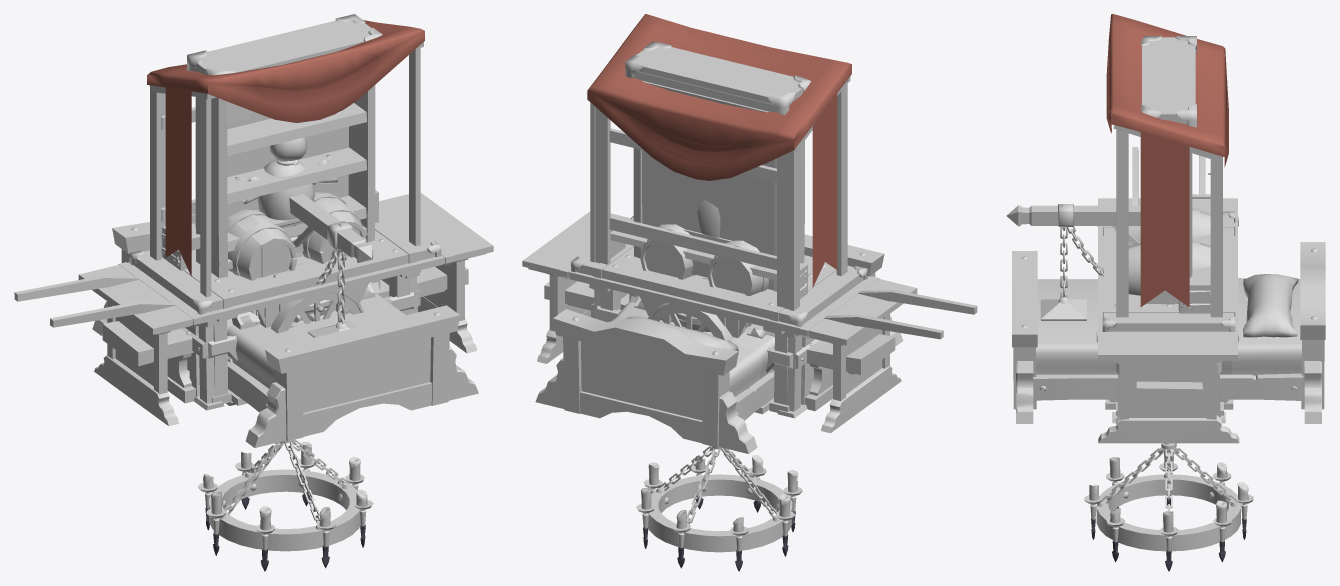
File: props.glb
The picture shows the model from 3 angles, left to right: view 1: azimuth 30°, elevation 25°; view 2: azimuth 150°, elevation 25°; view 3: azimuth 270°, elevation 25°; orthographic projection. The views are drawn at different scales.
Visible parts, largest first — view 1: Bed_Twin1, Bookcase_2, Stall_Cart_Empty, Table_Large, Stall_Empty, Chandelier, Workbench, Barrel_Holder, Bench, Lantern_Wall, Dummy; view 2: Stall_Empty, Bed_Twin1, Stall_Cart_Empty, Bookcase_2, Table_Large, Chandelier, Workbench, Barrel_Holder, Bench, Dummy; view 3: Bed_Twin1, Stall_Empty, Table_Large, Stall_Cart_Empty, Chandelier, Workbench, Bookcase_2, Lantern_Wall, Barrel_Holder, Bench.
Boxes of the visible parts, x1,y1,x2,y2 form: Bed_Twin1: [92, 214, 478, 447]; Bookcase_2: [187, 14, 382, 278]; Stall_Cart_Empty: [14, 22, 424, 396]; Table_Large: [78, 193, 493, 425]; Stall_Empty: [147, 20, 423, 410]; Chandelier: [198, 439, 373, 571]; Workbench: [129, 203, 441, 403]; Barrel_Holder: [227, 192, 380, 289]; Bench: [102, 266, 468, 403]; Lantern_Wall: [289, 194, 372, 337]; Dummy: [235, 137, 338, 242]; Stall_Empty: [588, 25, 851, 418]; Bed_Twin1: [535, 234, 903, 453]; Stall_Cart_Empty: [587, 14, 977, 404]; Bookcase_2: [625, 41, 811, 291]; Table_Large: [522, 211, 917, 433]; Chandelier: [636, 446, 802, 571]; Workbench: [571, 216, 867, 412]; Barrel_Holder: [629, 224, 768, 302]; Bench: [544, 281, 895, 411]; Dummy: [697, 200, 720, 237]; Bed_Twin1: [1012, 242, 1325, 423]; Stall_Empty: [1111, 21, 1228, 423]; Table_Large: [1096, 198, 1239, 443]; Stall_Cart_Empty: [1106, 14, 1228, 317]; Chandelier: [1084, 443, 1253, 571]; Workbench: [1102, 211, 1235, 415]; Bookcase_2: [1141, 36, 1196, 303]; Lantern_Wall: [1006, 204, 1140, 320]; Barrel_Holder: [1128, 208, 1210, 295]; Bench: [1136, 381, 1202, 402].
Bounding box in the file's own units: 3.53 × 4.05 × 2.46.
